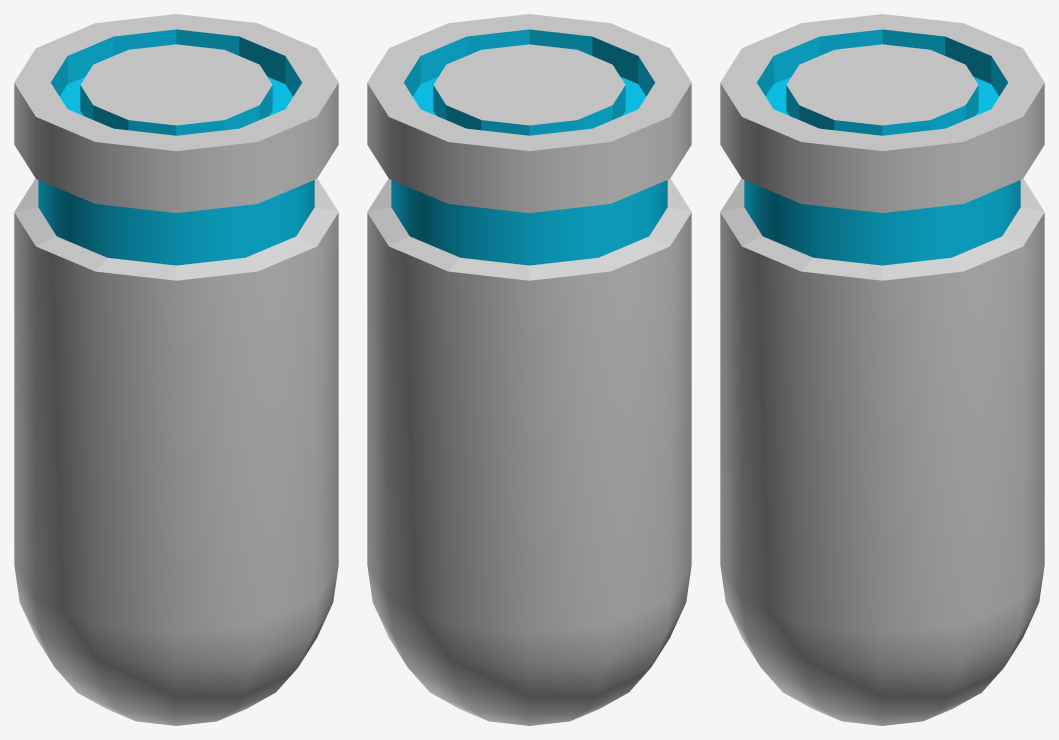
Rendered from BulletMesh_v1.fbx.
3 renders of one model, left to right at view 1: azimuth 30°, elevation 25°; view 2: azimuth 150°, elevation 25°; view 3: azimuth 270°, elevation 25°, orthographic.
Visible parts, largest first — view 1: Bullet001; view 2: Bullet001; view 3: Bullet001.
Boxes of the visible parts, x1,y1,x2,y2 form: Bullet001: [14, 14, 338, 725]; Bullet001: [367, 14, 691, 725]; Bullet001: [720, 14, 1044, 725].
Bounding box in the file's own units: 13.72 × 13.72 × 29.32.
